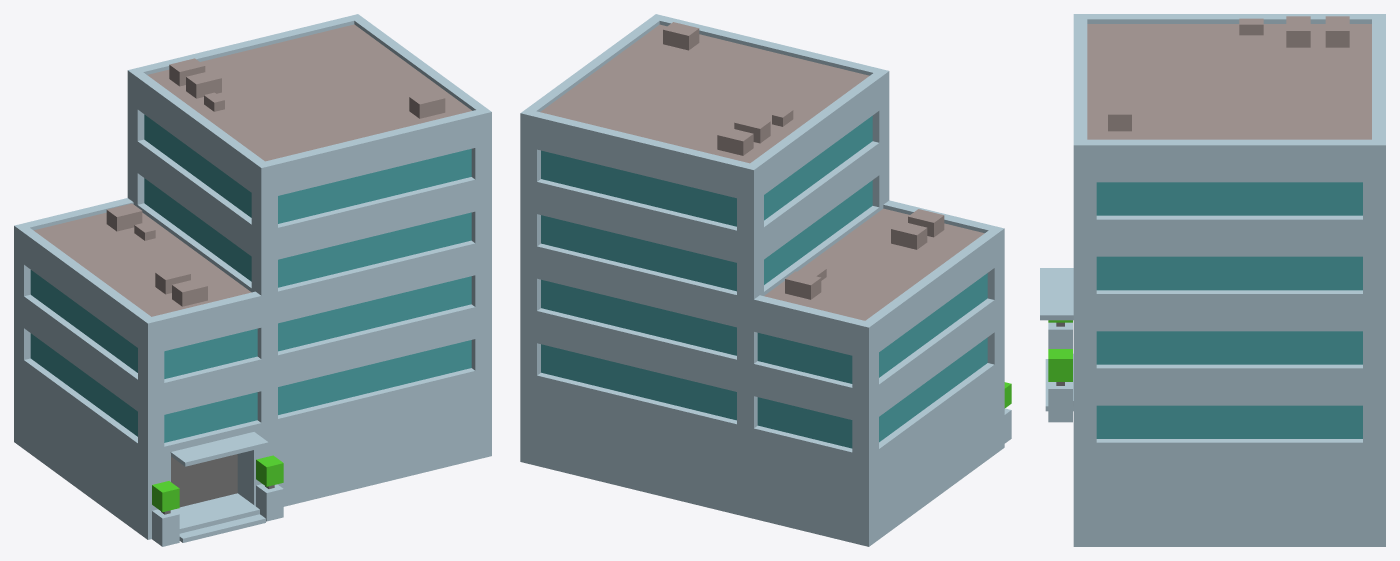
File: city_14.FBX
The picture shows the model from 3 angles, left to right: view 1: azimuth 30°, elevation 25°; view 2: azimuth 150°, elevation 25°; view 3: azimuth 270°, elevation 25°; orthographic projection. The views are drawn at different scales.
Parts seen in each view (by area): view 1: city_58; view 2: city_58; view 3: city_58.
Part boxes in pixels (x1,y1,x2,y2): city_58: [14, 14, 491, 546]; city_58: [520, 14, 1011, 546]; city_58: [1040, 14, 1385, 546].
Size of the model in its own units: 4230 by 4169 by 3155.
